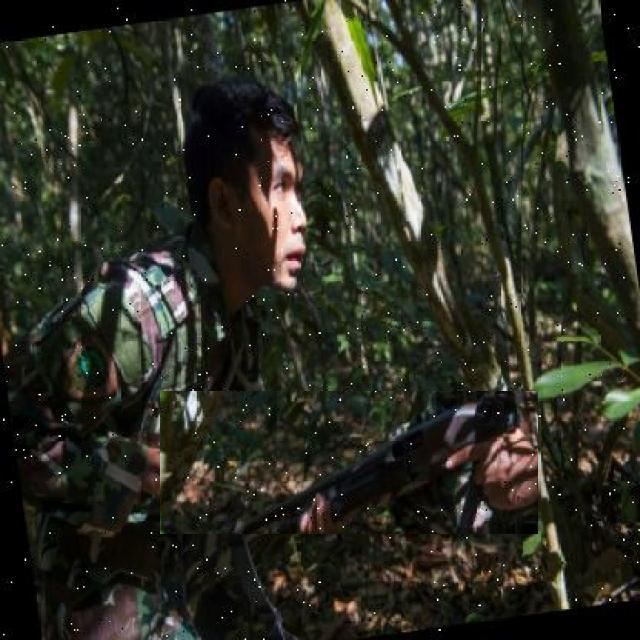poacher: (78, 70, 471, 568)
weapon: (160, 391, 538, 534)
